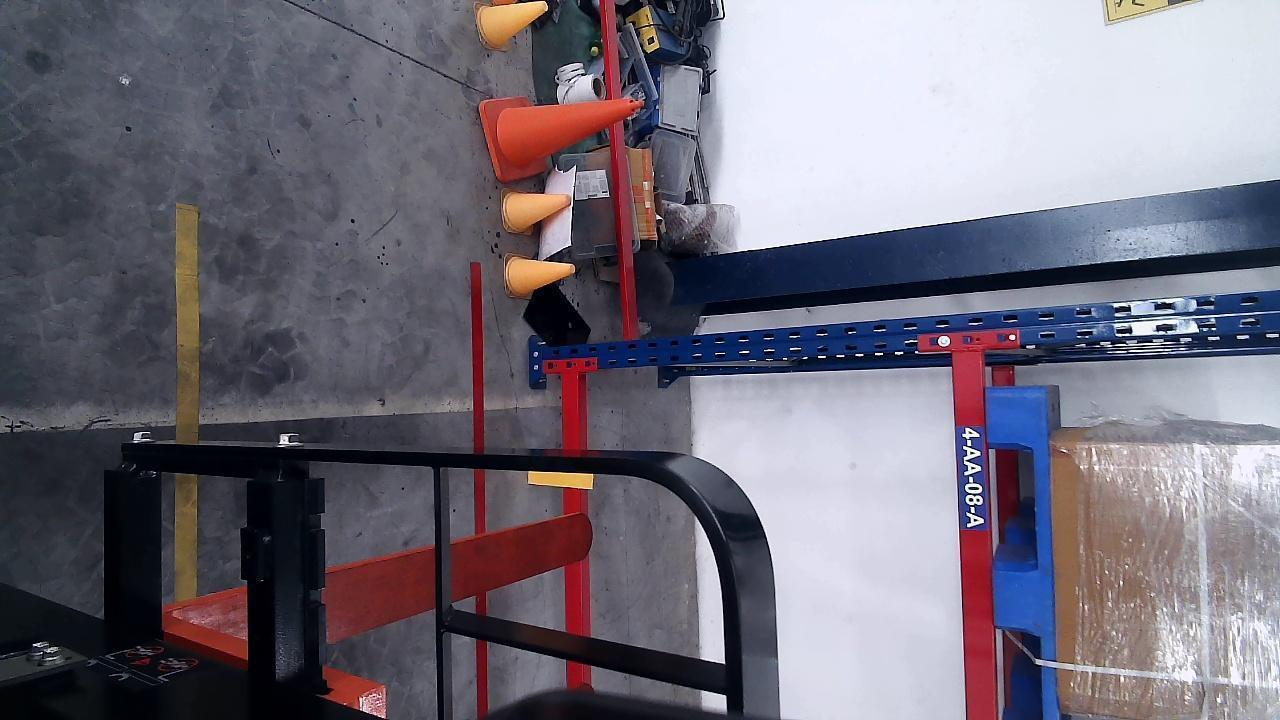red_line: (469, 262, 488, 720)
yellow_line: (171, 202, 200, 606)
